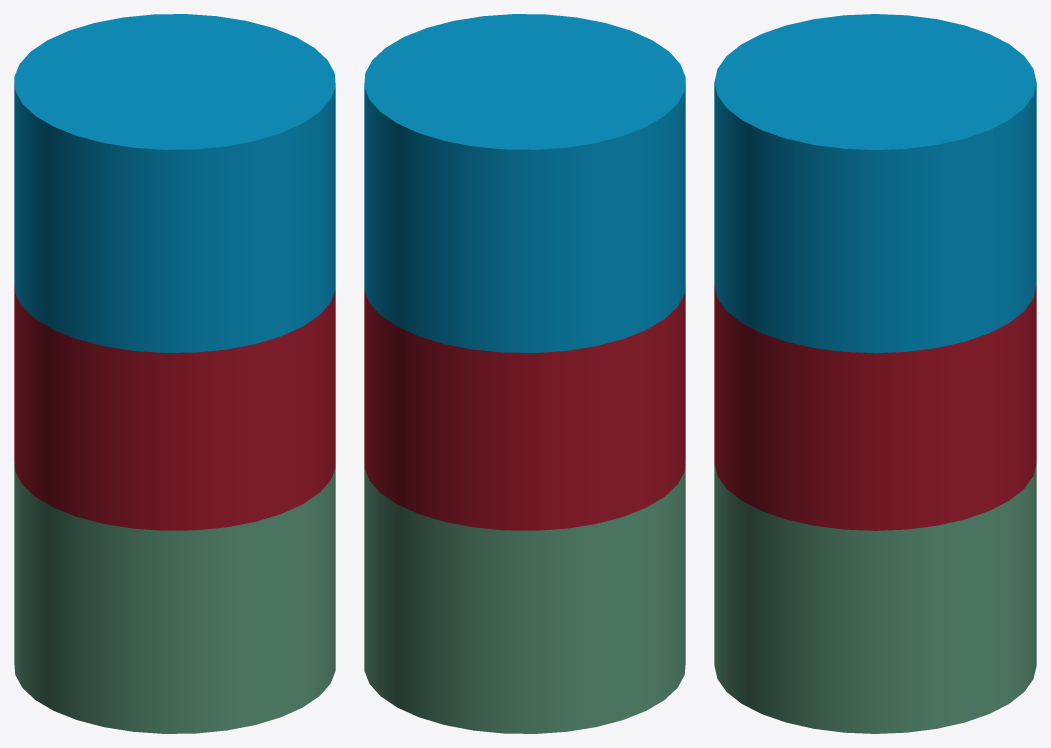
The model's file is MultiMaterialScatterable.fbx.
The picture shows the model from 3 angles, left to right: view 1: azimuth 30°, elevation 25°; view 2: azimuth 150°, elevation 25°; view 3: azimuth 270°, elevation 25°; orthographic projection.
Parts seen in each view (by area): view 1: Tube; view 2: Tube; view 3: Tube.
Boxes of the visible parts, box(x1,y1,x2,y2) form: Tube: box(14, 14, 335, 733); Tube: box(364, 14, 685, 733); Tube: box(714, 14, 1036, 733).
Bounding box in the file's own units: 1 × 2 × 1.
